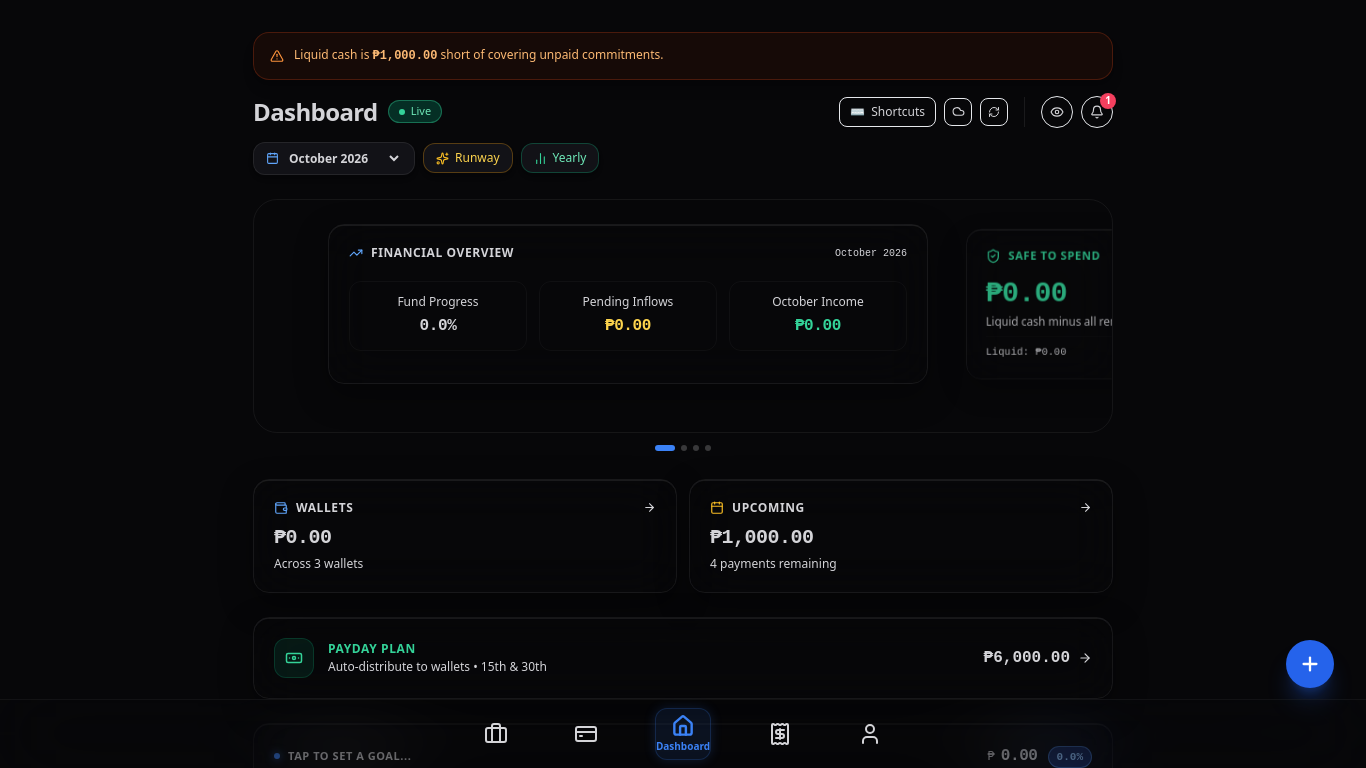
Test case: App - Notifications Integration › dismisses grouped notification by persisting constituent IDs to settings
This screenshot has width=1366, height=768.
Click the button named "Notifications": (1097, 112) [1081,96,1113,128]
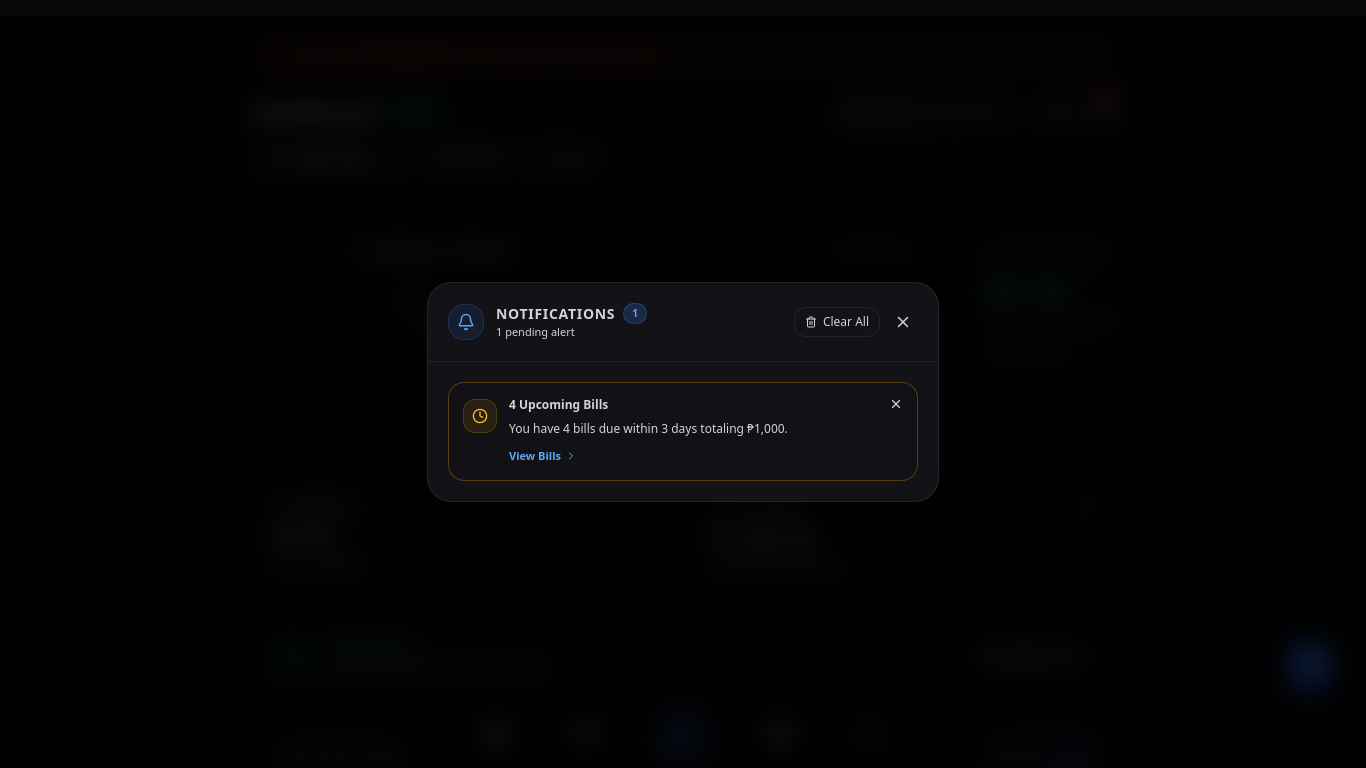
expect the heading "4 Upcoming Bills" is shown: met, box [509,396,608,412]
Click the button named "Dismiss 4 Upcoming Bills": (896, 404) [885,392,907,414]
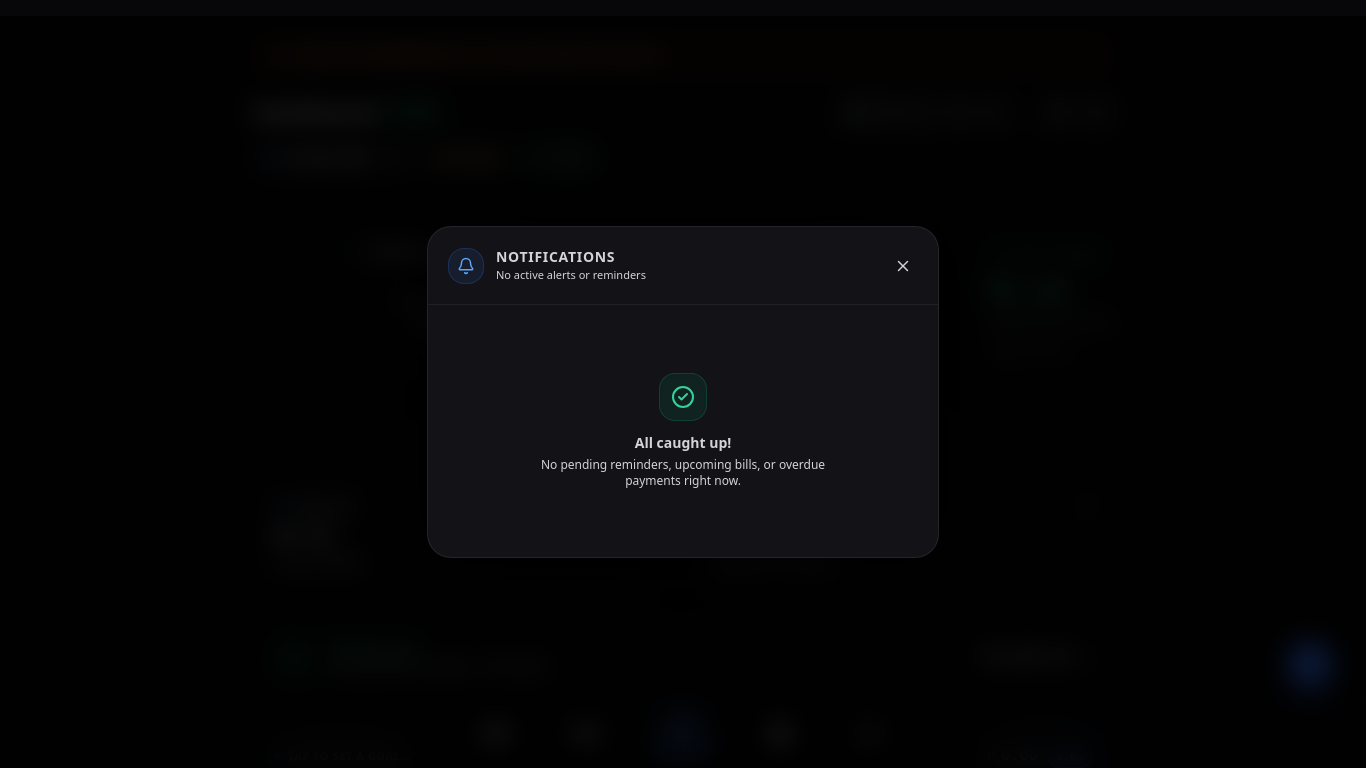
expect the heading "All caught up!" is shown: met, box [635,433,731,453]
